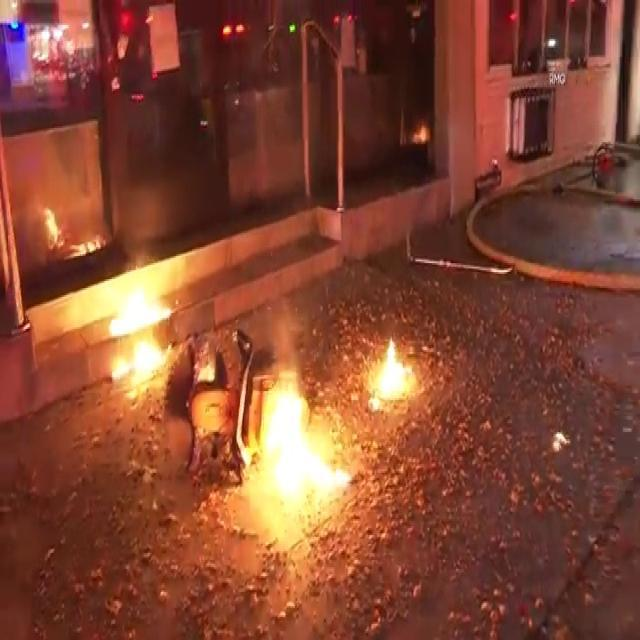Fire: (248, 364, 354, 518), (96, 259, 188, 396), (365, 334, 426, 414), (41, 200, 94, 260)
